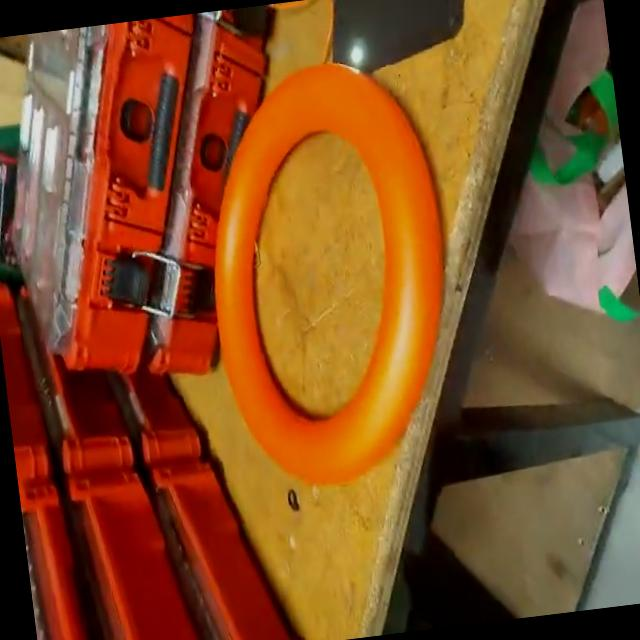note: (181, 46, 479, 504)
